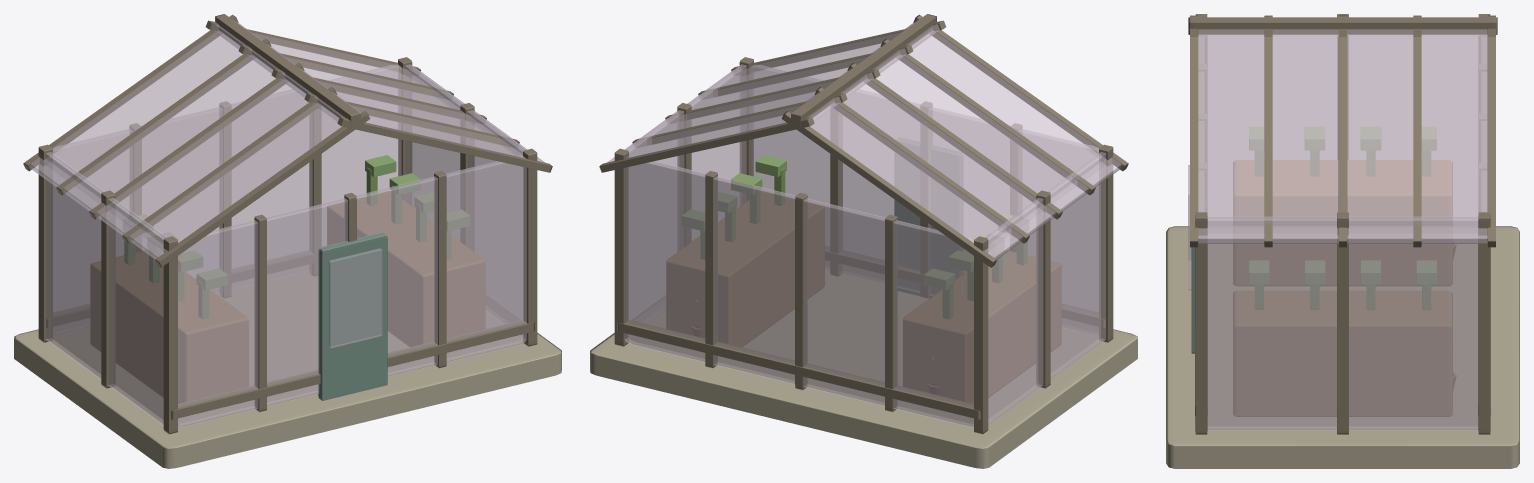
Rendered from greenhouse-1.glb.
The picture shows the model from 3 angles, left to right: view 1: azimuth 30°, elevation 25°; view 2: azimuth 150°, elevation 25°; view 3: azimuth 270°, elevation 25°; orthographic projection. The views are drawn at different scales.
Visible parts, largest first — view 1: greenhouse-1-0, vegetable-crops; view 2: greenhouse-1-0, vegetable-crops; view 3: greenhouse-1-0, vegetable-crops.
Boxes of the visible parts, <box> form: greenhouse-1-0: <box>14,14,561,468</box>; vegetable-crops: <box>124,155,469,319</box>; greenhouse-1-0: <box>590,14,1137,468</box>; vegetable-crops: <box>682,155,1027,319</box>; greenhouse-1-0: <box>1166,14,1519,468</box>; vegetable-crops: <box>1249,127,1436,309</box>.
Bounding box in the file's own units: 2.8 × 2.01 × 1.9.
